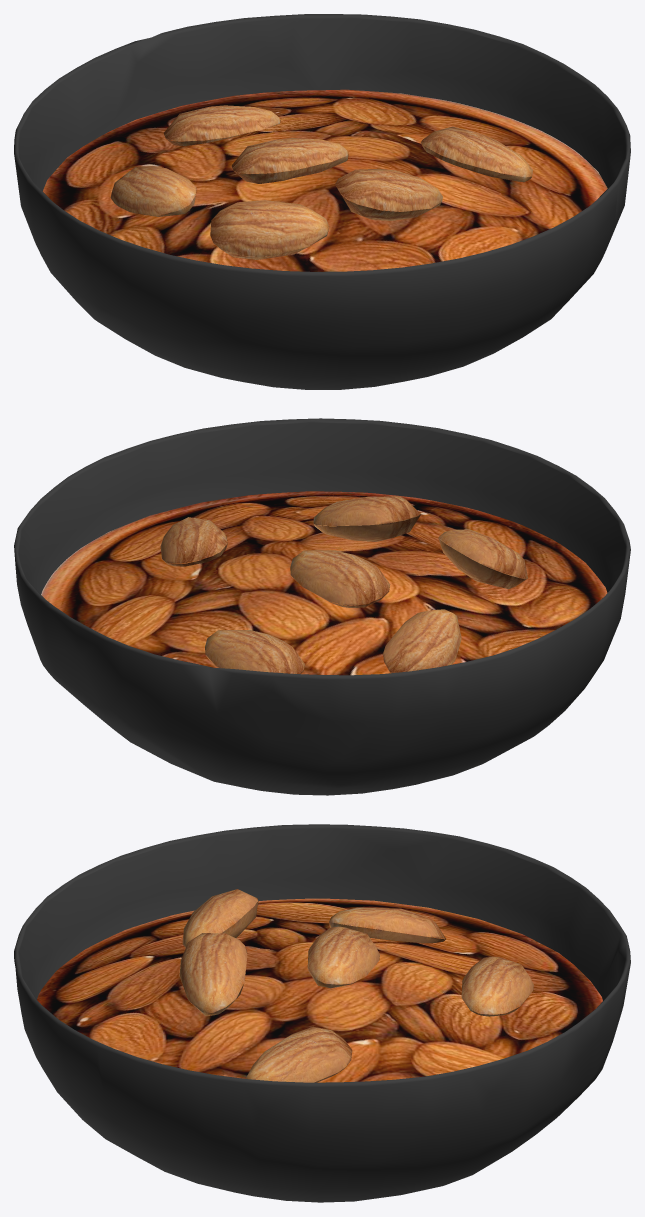
Rendered from POTE_CASTANHAS.fbx.
3 renders of one model, top to bottom at view 1: azimuth 30°, elevation 25°; view 2: azimuth 150°, elevation 25°; view 3: azimuth 270°, elevation 25°, orthographic.
Parts seen in each view (by area): view 1: Object_15.001, Circle, castanha_obj.001, castanha_obj.002, castanha_obj, castanha_obj.004, castanha_obj.005, castanha_obj.003; view 2: Object_15.001, Circle, castanha_obj, castanha_obj.005, castanha_obj.002, castanha_obj.001, castanha_obj.003, castanha_obj.004; view 3: Object_15.001, Circle, castanha_obj.002, castanha_obj.004, castanha_obj, castanha_obj.003, castanha_obj.005, castanha_obj.001.
Boxes of the visible parts, x1,y1,x2,y2 form: Object_15.001: (14, 14, 630, 389); Circle: (43, 89, 607, 271); castanha_obj.001: (210, 200, 329, 259); castanha_obj.002: (335, 168, 442, 220); castanha_obj: (231, 138, 348, 183); castanha_obj.004: (420, 126, 532, 182); castanha_obj.005: (110, 166, 196, 216); castanha_obj.003: (163, 105, 280, 145); Object_15.001: (14, 418, 630, 795); Circle: (41, 491, 607, 675); castanha_obj: (290, 550, 390, 607); castanha_obj.005: (383, 609, 461, 673); castanha_obj.002: (313, 496, 420, 541); castanha_obj.001: (438, 529, 527, 589); castanha_obj.003: (205, 630, 304, 673); castanha_obj.004: (160, 517, 227, 566); Object_15.001: (14, 824, 630, 1202); Circle: (37, 898, 602, 1082); castanha_obj.002: (179, 933, 247, 1015); castanha_obj.004: (246, 1026, 352, 1082); castanha_obj: (307, 926, 379, 988); castanha_obj.003: (461, 956, 533, 1016); castanha_obj.005: (329, 907, 445, 943); castanha_obj.001: (182, 889, 258, 947).
Size of the model in its own units: 35.57 by 14.17 by 35.63.
3 materials, 2 textured.
